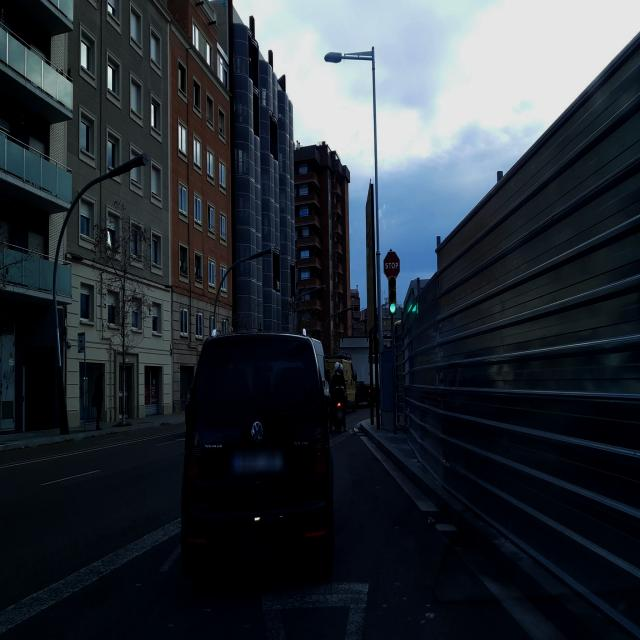bike: (328, 378, 346, 435)
car: (180, 329, 335, 582), (310, 337, 329, 432)
